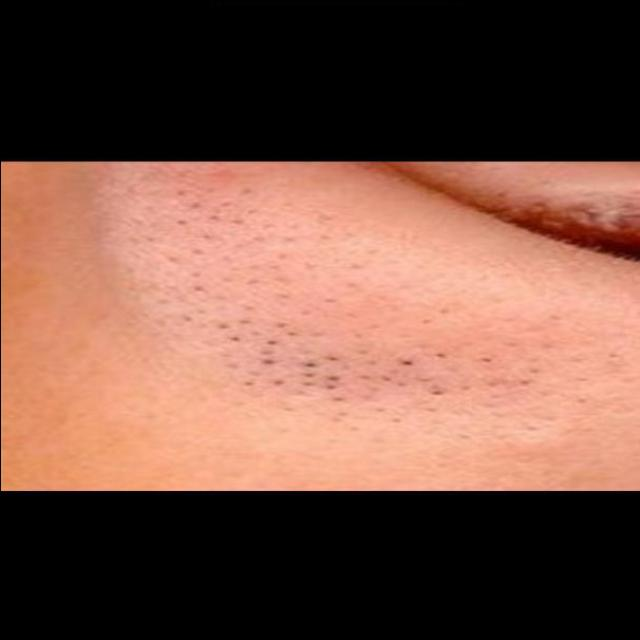blackhead: (142, 236, 620, 432)
